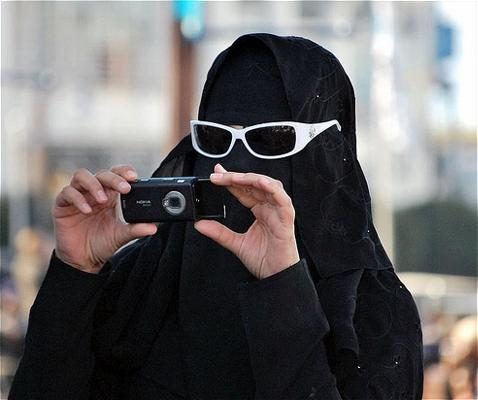person: (8, 33, 425, 399)
